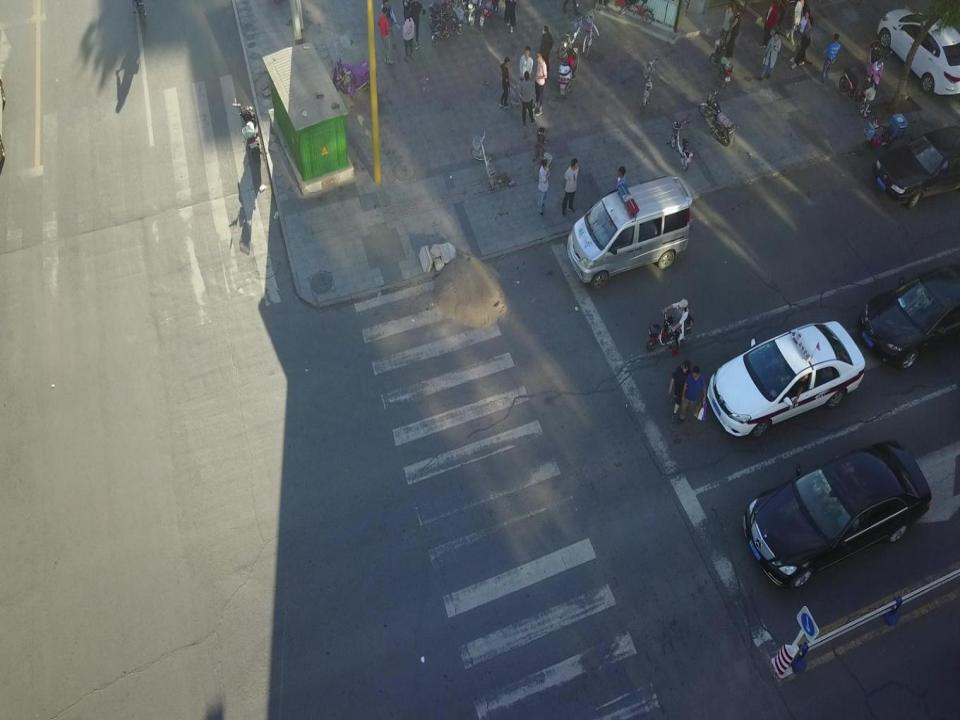car: (743, 441, 931, 591), (706, 321, 864, 437), (860, 259, 960, 370), (874, 122, 960, 208), (877, 7, 960, 94)
van: (567, 173, 692, 288)
